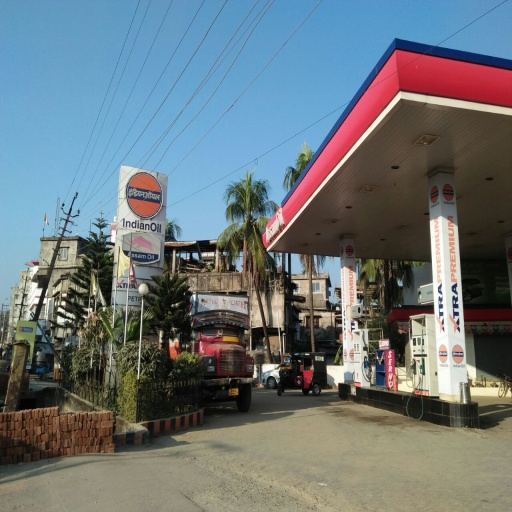roof: (263, 35, 510, 255)
